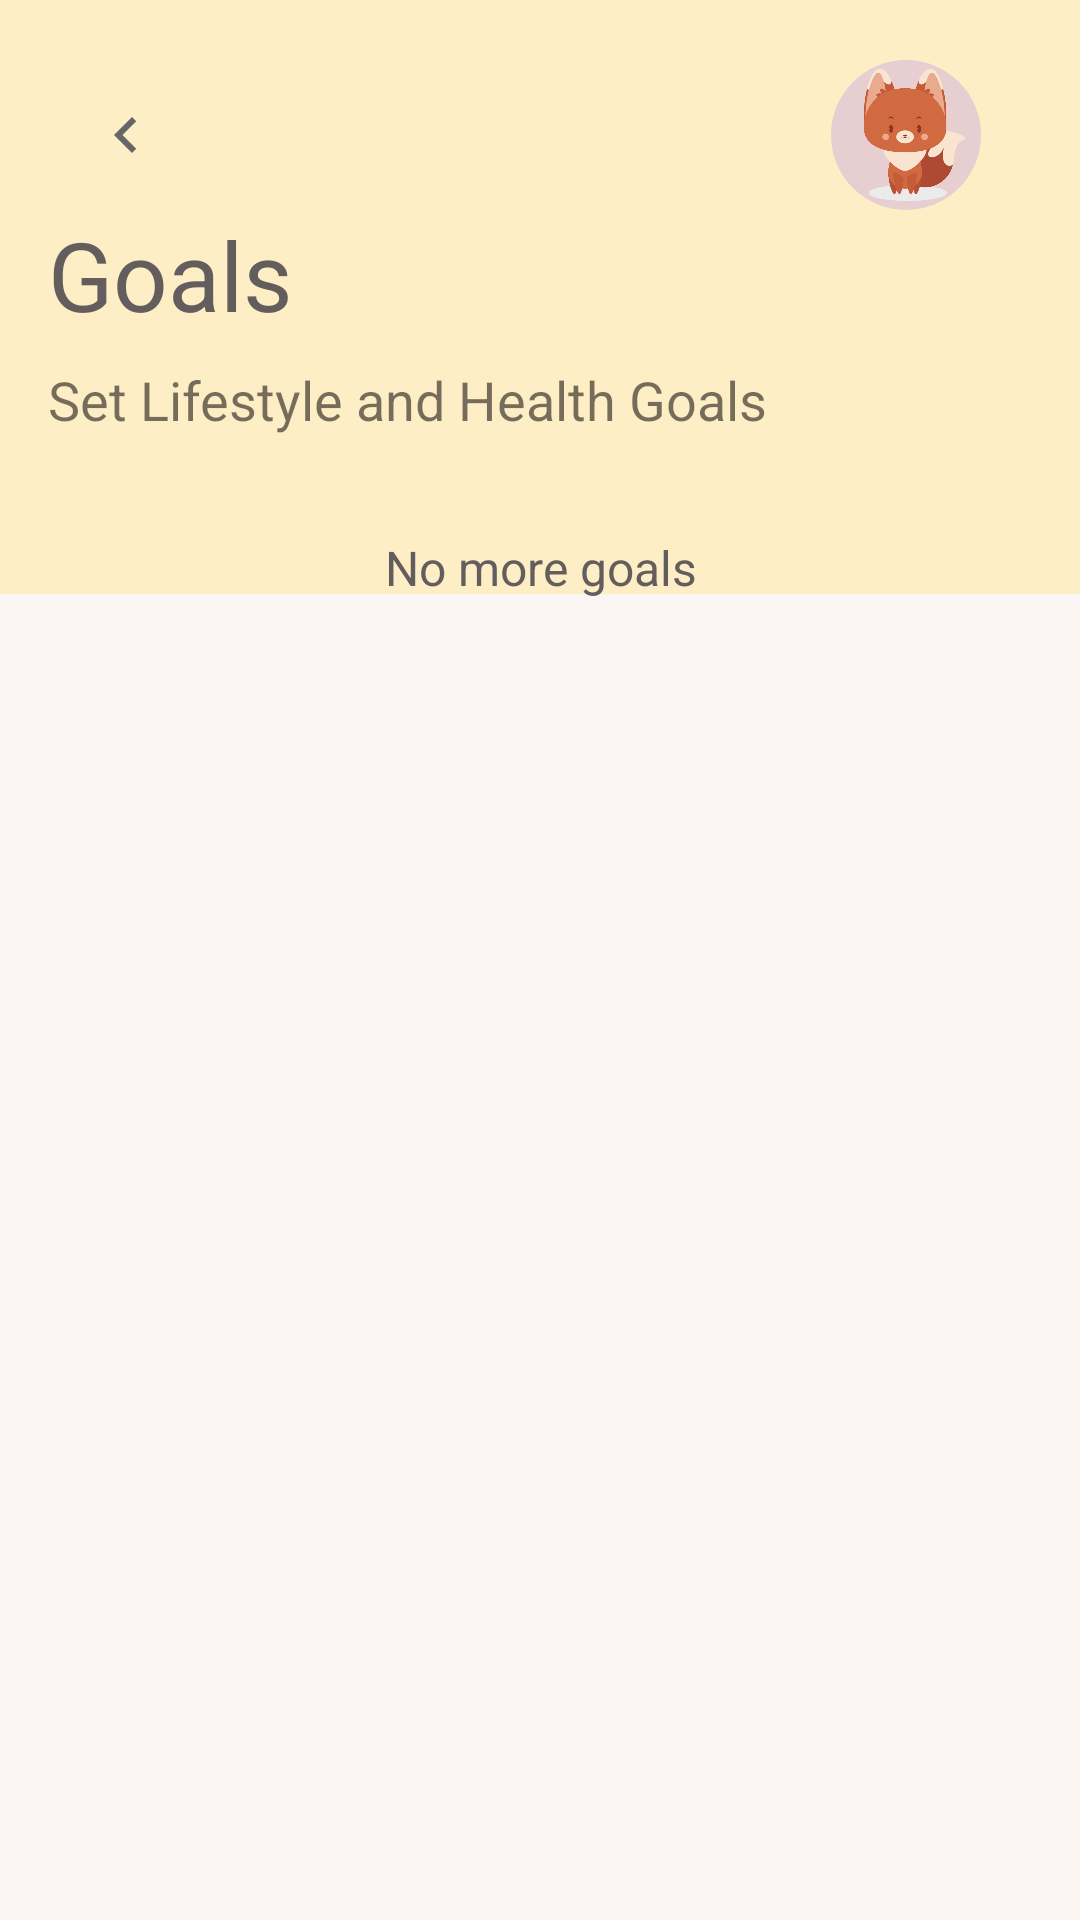

Where to tap for icons on this 1080px x 1920px app screen, as point (x, y):
fox: point (910, 135)
left: point (125, 135)
